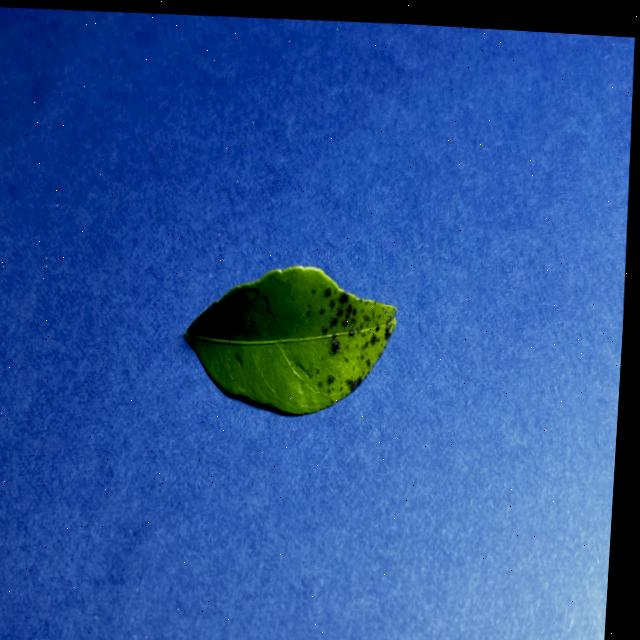sooty_mold: (185, 265, 396, 413)
